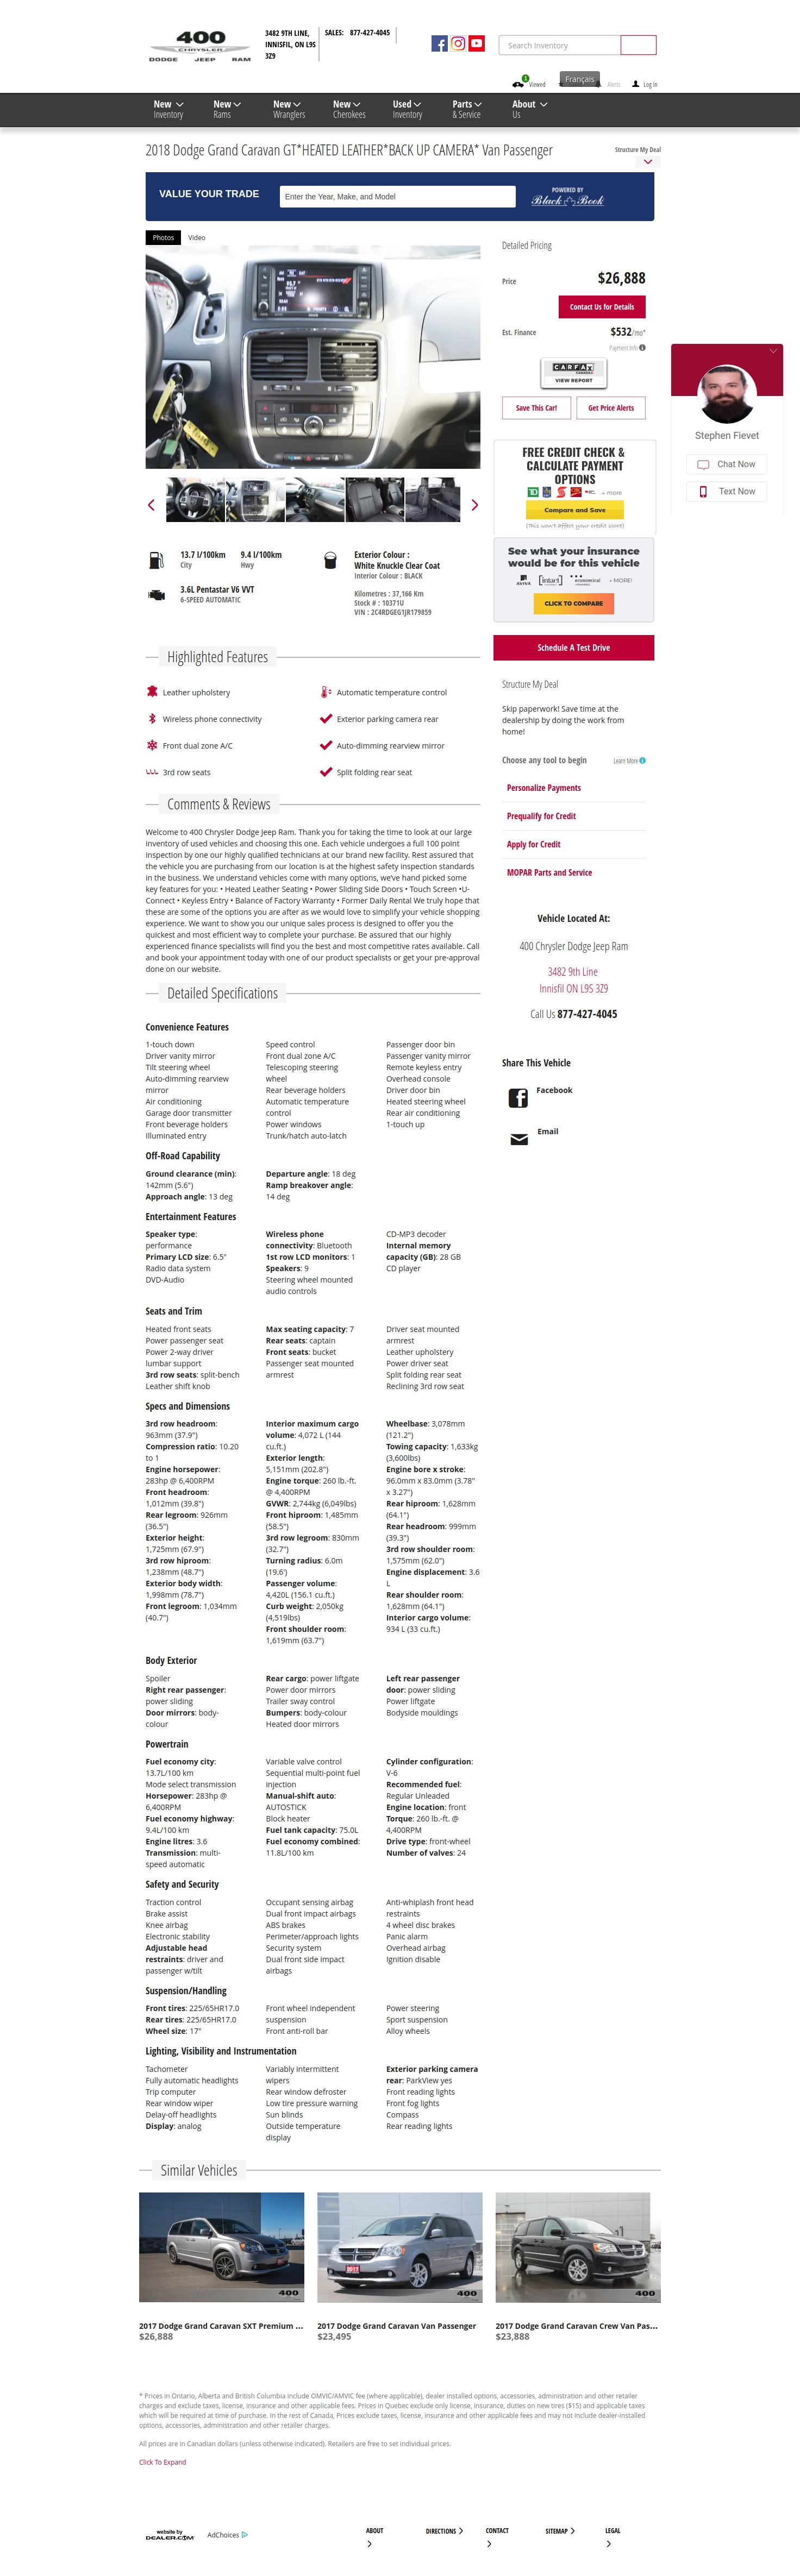car: (468, 498, 481, 513)
